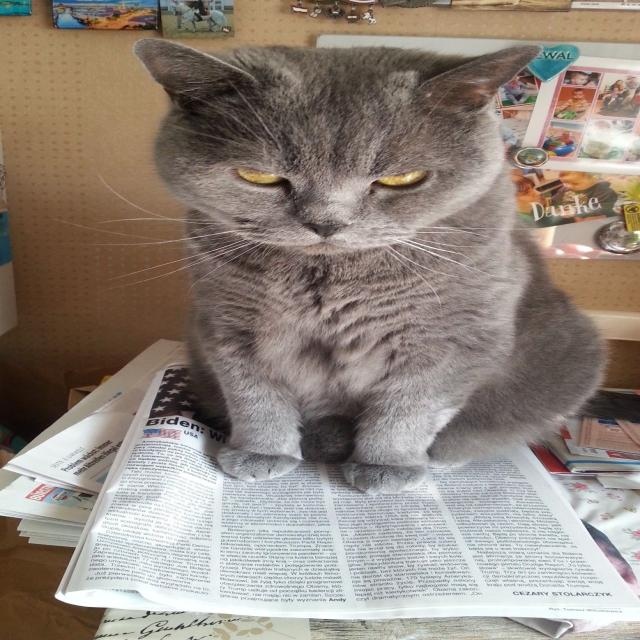british shorthair: (81, 20, 637, 559)
